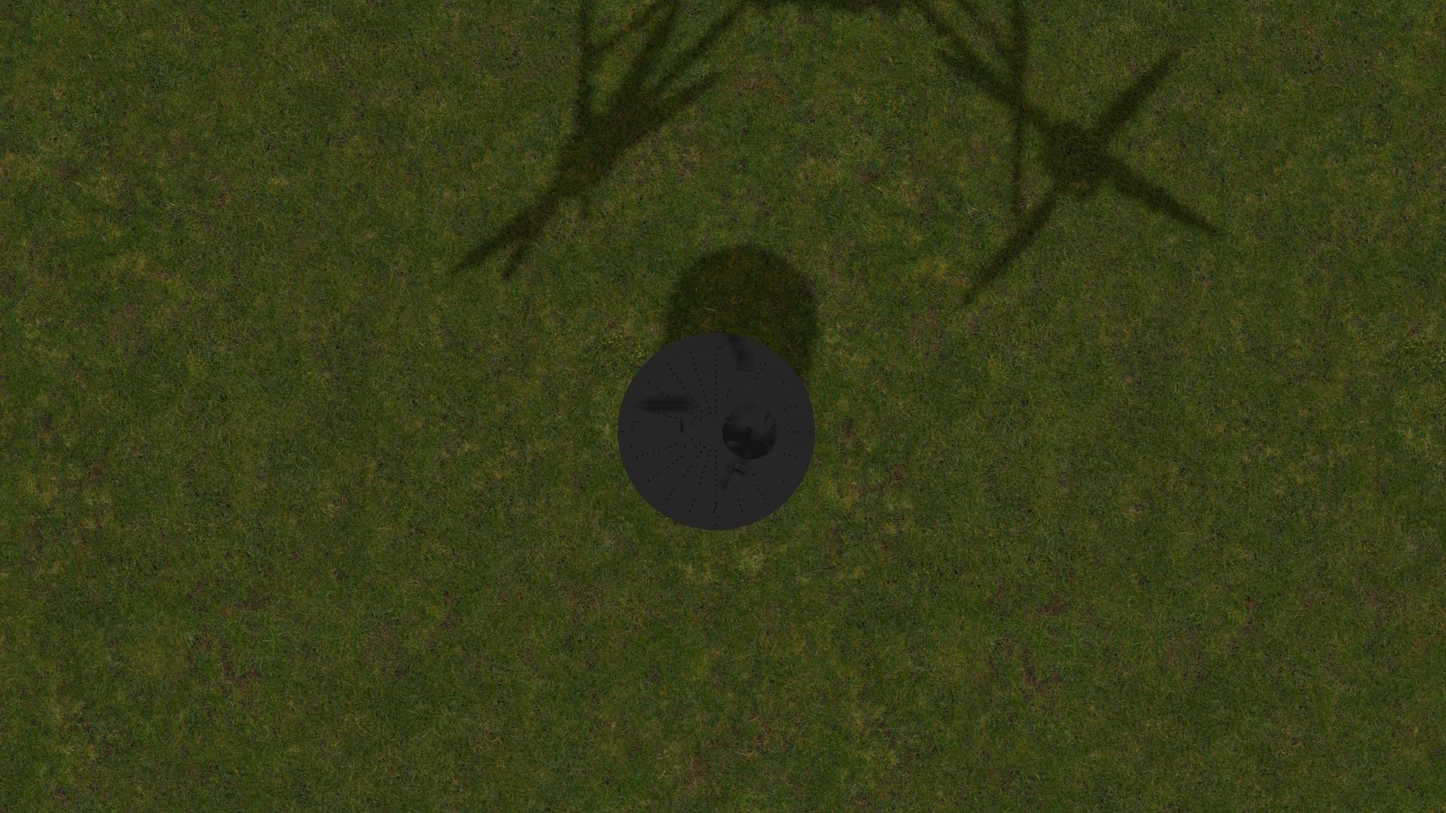alca: (710, 461, 747, 523), (713, 340, 747, 399), (627, 421, 689, 434)
armadilha: (617, 332, 816, 531)
